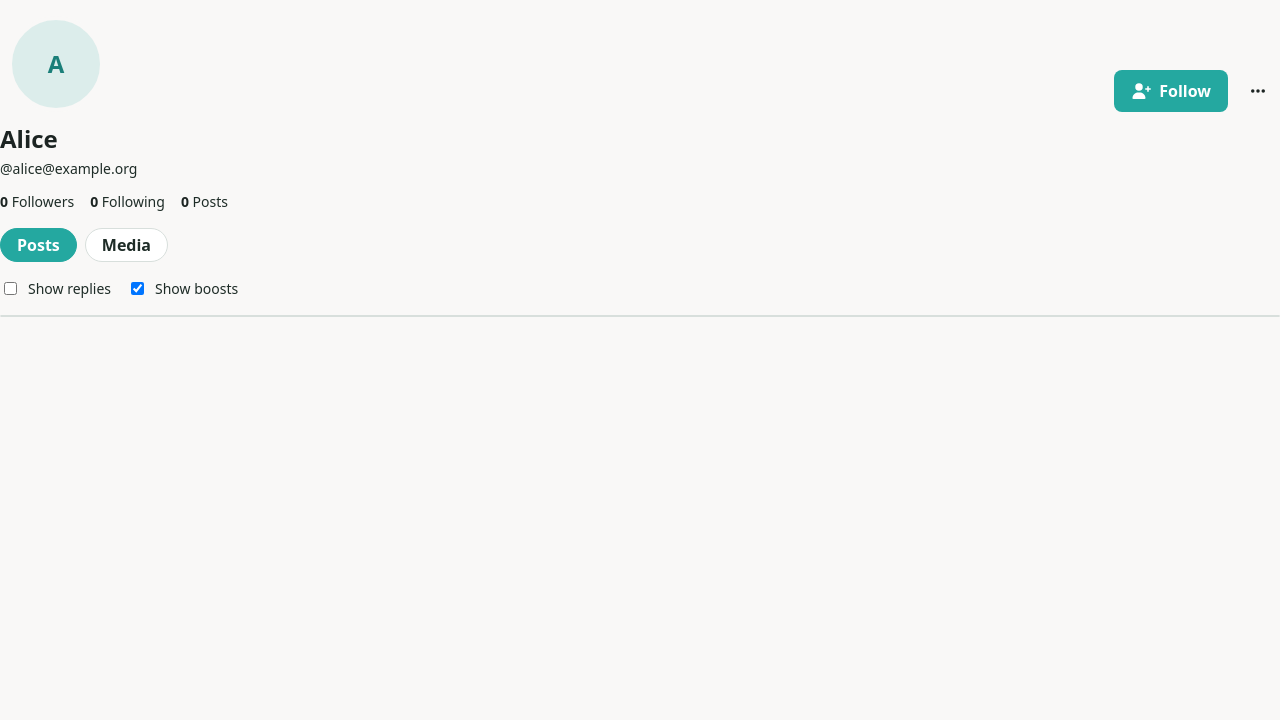
Test case: ProfilePage › opens a list picker with membership checkboxes
Click the button with class "menu__trigger": {"x": 1258, "y": 91} [1236,75,1279,107]
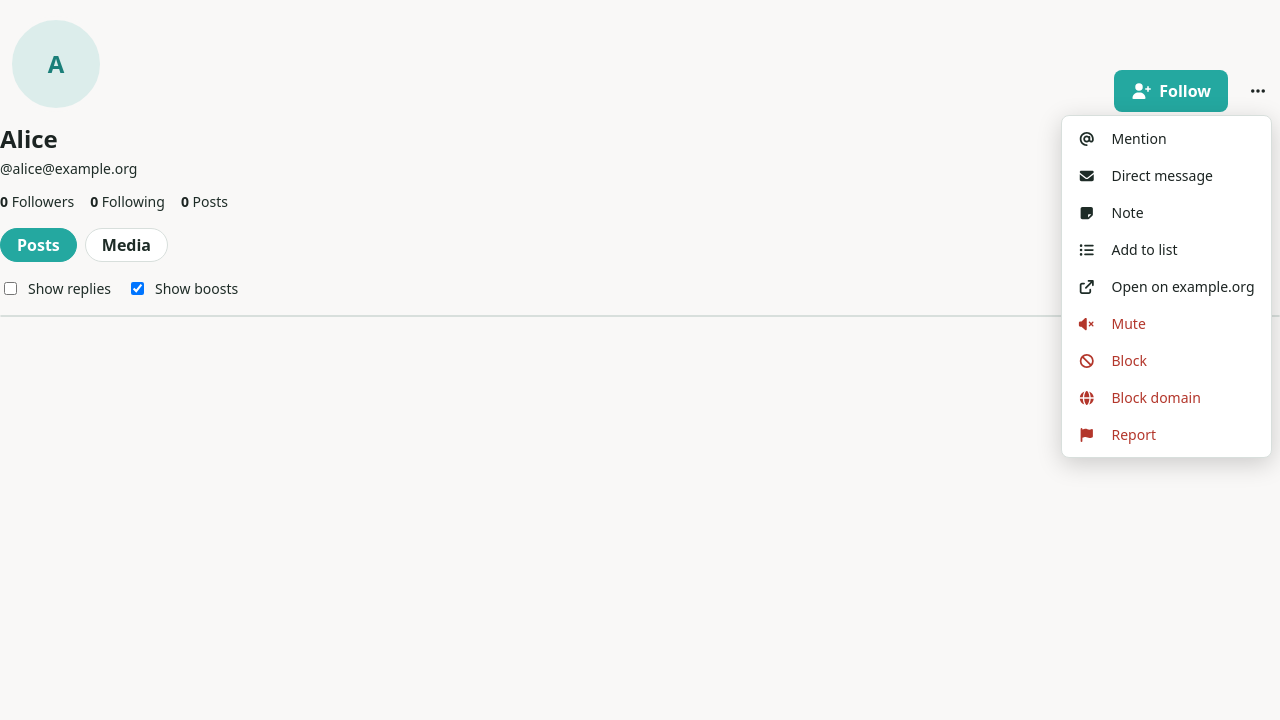
Click the menu item "Add to list": {"x": 1128, "y": 250} [1078,240,1178,259]
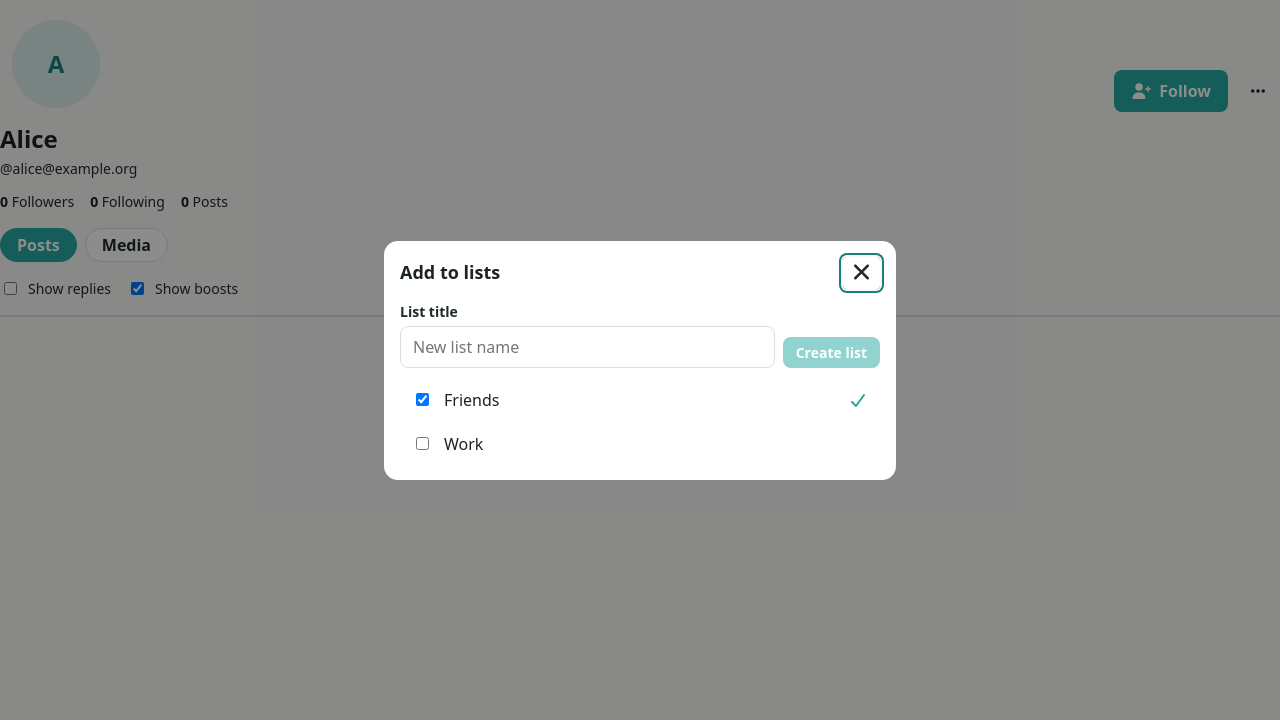
Check: the checkbox labelled "Friends" is checked, box [416,393,429,406]
Check: the checkbox labelled "Work" is not checked, box [416,437,429,450]
